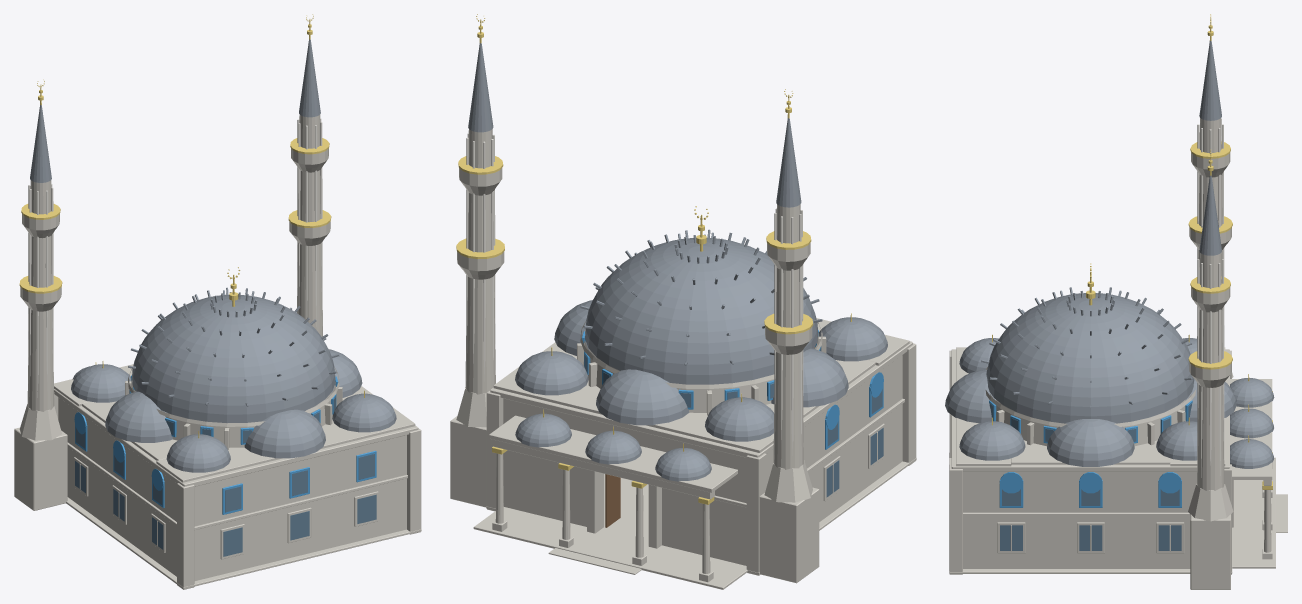
The model's file is Sultanbeyli_HzOsmanCamii.fbx.
3 renders of one model, left to right at view 1: azimuth 30°, elevation 25°; view 2: azimuth 150°, elevation 25°; view 3: azimuth 270°, elevation 25°, orthographic. The views are drawn at different scales.
Visible parts, largest first — view 1: Sultanbeyli_HzOsmanCamii; view 2: Sultanbeyli_HzOsmanCamii; view 3: Sultanbeyli_HzOsmanCamii.
Part boxes in pixels (x1,y1,x2,y2): Sultanbeyli_HzOsmanCamii: [14, 14, 421, 589]; Sultanbeyli_HzOsmanCamii: [450, 14, 916, 589]; Sultanbeyli_HzOsmanCamii: [945, 14, 1287, 589].
Size of the model in its own units: 21.14 by 27.64 by 19.87.
